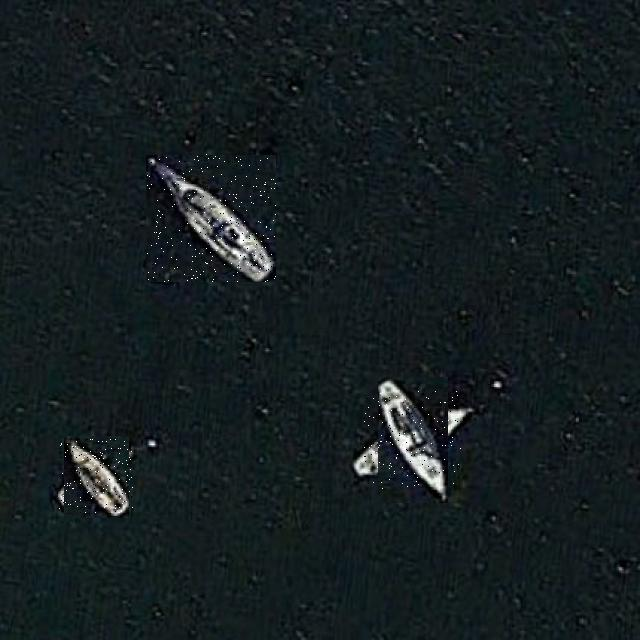boat: (147, 154, 276, 282), (364, 391, 462, 490), (59, 439, 134, 514)
